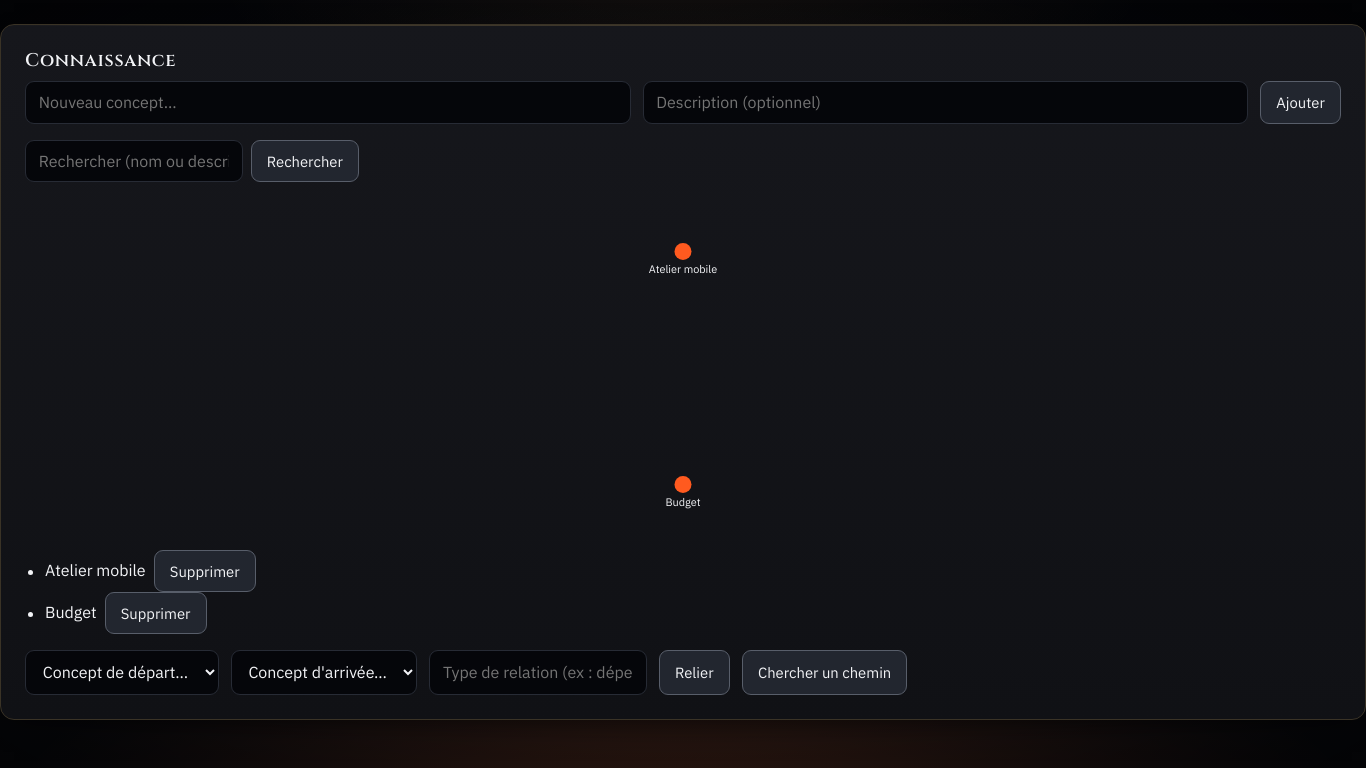
it: KnowledgeSection — recherche, isolés, suppressions › affiche le chemin trouvé entre deux concepts
Step 1. Select "Atelier mobile" in the dropdown named "Concept de départ" → point(122, 672), box [25,650,219,695]
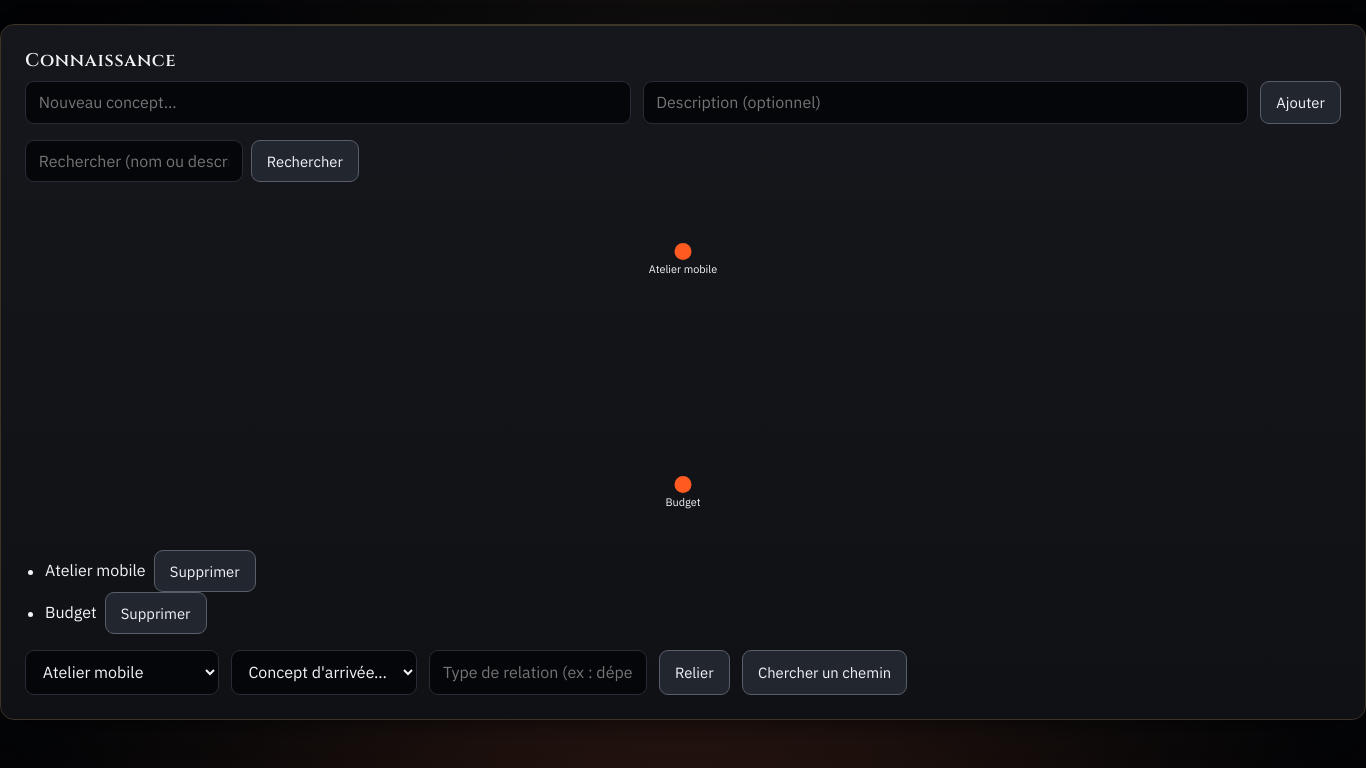
Step 2. Select "Budget" in the dropdown named "Concept d'arrivée" → point(324, 672), box [231,650,417,695]
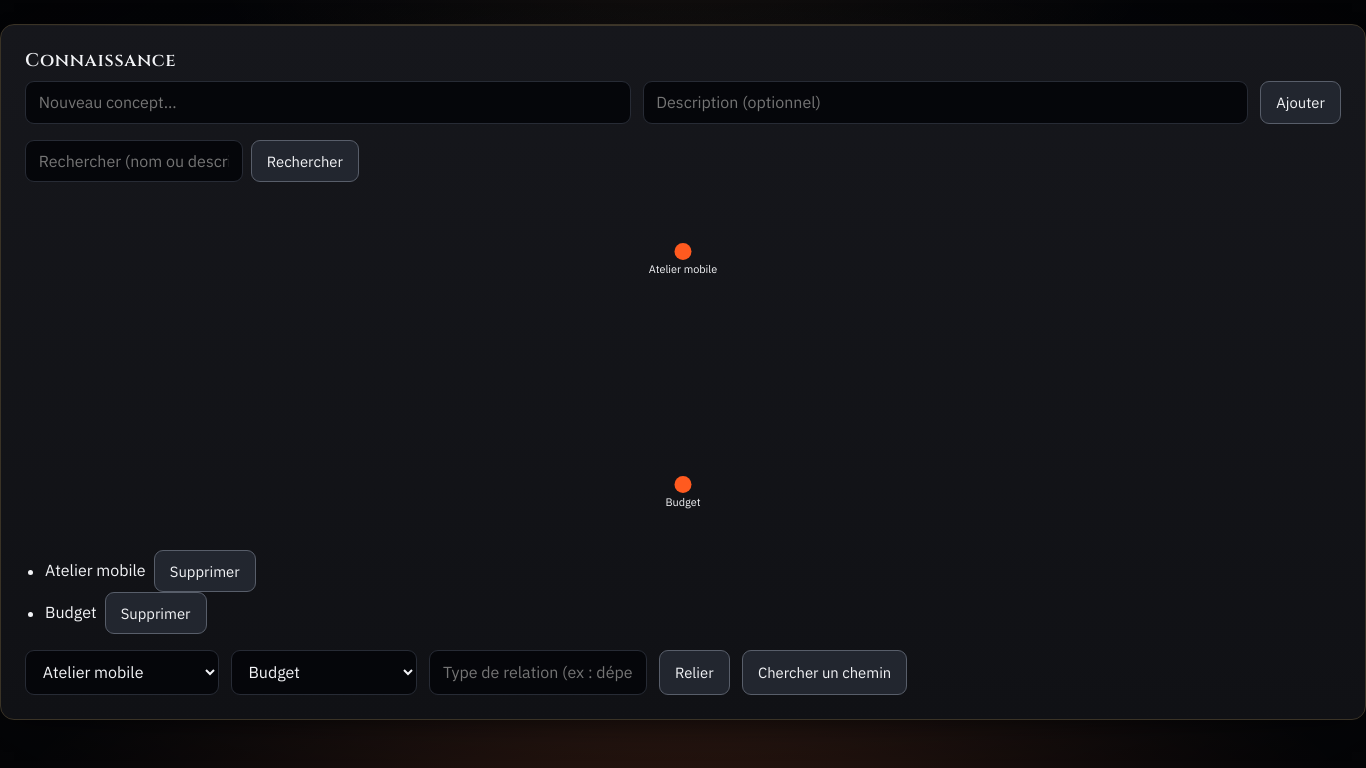
Step 3. Click the button "Chercher un chemin" → point(825, 672), box [742,650,907,695]
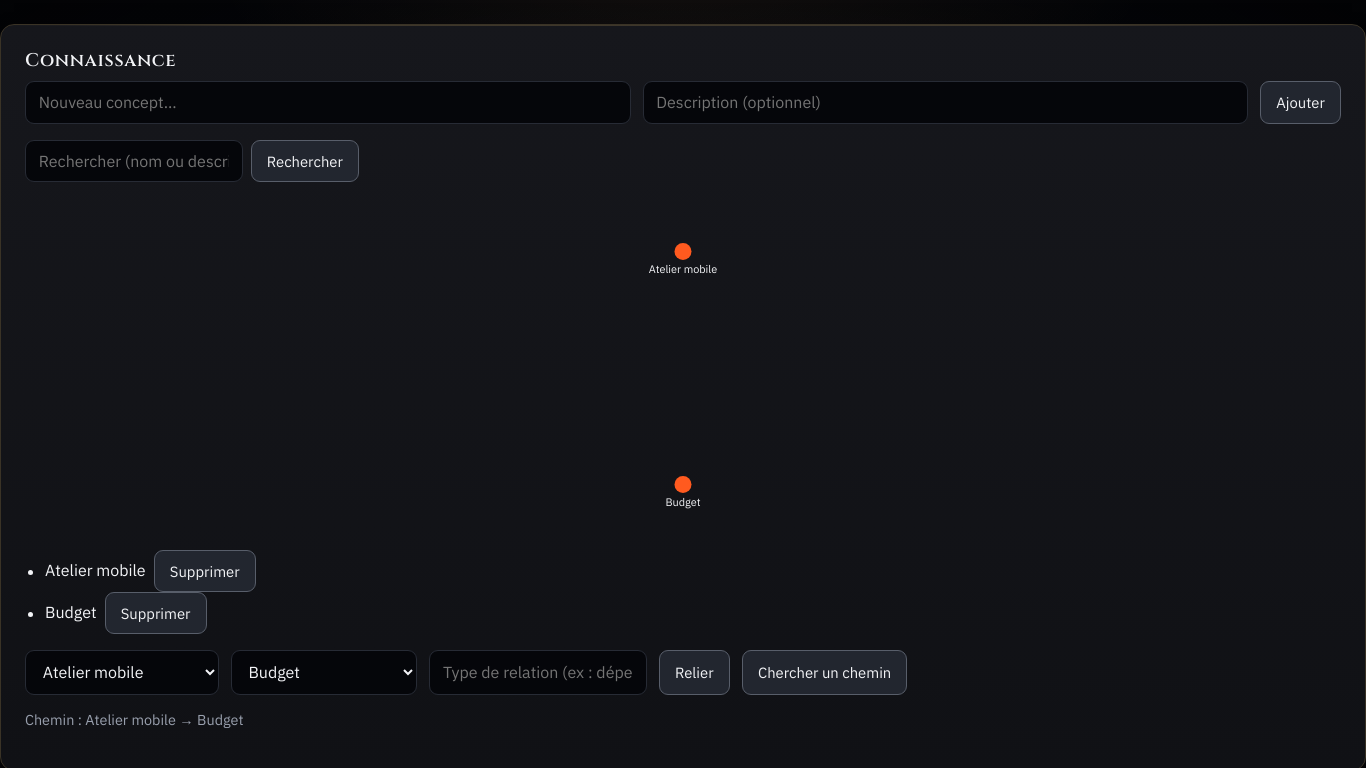
Now the text "Chemin : Atelier mobile → Budget" is shown, box [25,710,243,729]
